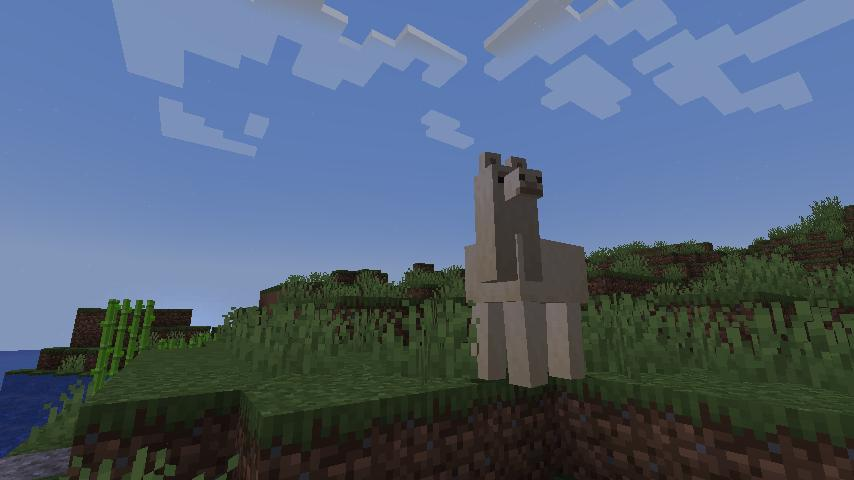llama: (460, 147, 594, 391)
